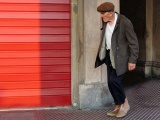male: (96, 4, 114, 24)
